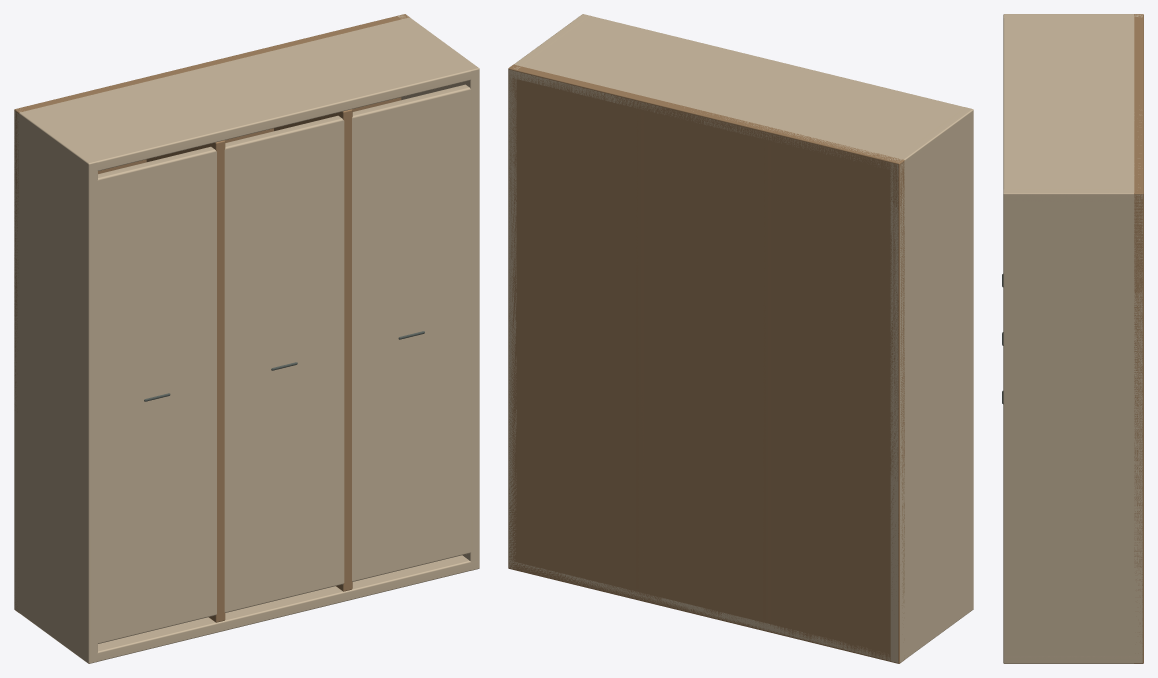
3 views of the same model, side by side, from view 1: azimuth 30°, elevation 25°; view 2: azimuth 150°, elevation 25°; view 3: azimuth 270°, elevation 25° (orthographic). The views are drawn at different scales.
Parts seen in each view (by area): view 1: front_0_1, front_0_2, front_0_0, side_-1, top, bottom, side_1, divider_1, divider_2, back; view 2: back, side_-1, top, side_1, divider_1, divider_2, bottom; view 3: side_1, top, back, side_-1, bottom.
Part boxes in pixels (x1,y1,x2,y2): front_0_1: (224, 115, 344, 612); front_0_2: (352, 84, 471, 581); front_0_0: (97, 146, 216, 643); side_-1: (14, 108, 97, 663); top: (27, 19, 478, 170); bottom: (94, 555, 478, 661); side_1: (398, 14, 479, 570); divider_1: (146, 140, 225, 622); divider_2: (274, 109, 352, 591); back: (14, 14, 409, 612); back: (508, 64, 904, 663); side_-1: (890, 107, 973, 662); top: (509, 16, 972, 168); side_1: (509, 14, 590, 568); divider_1: (763, 142, 770, 621); divider_2: (636, 111, 643, 589); bottom: (509, 560, 917, 661); side_1: (1003, 189, 1142, 663); top: (1003, 17, 1141, 200); back: (1134, 14, 1143, 663); side_-1: (1003, 14, 1142, 17); bottom: (1005, 656, 1140, 660).
Bounding box in the file's own units: 1.8 × 2.2 × 0.6.
